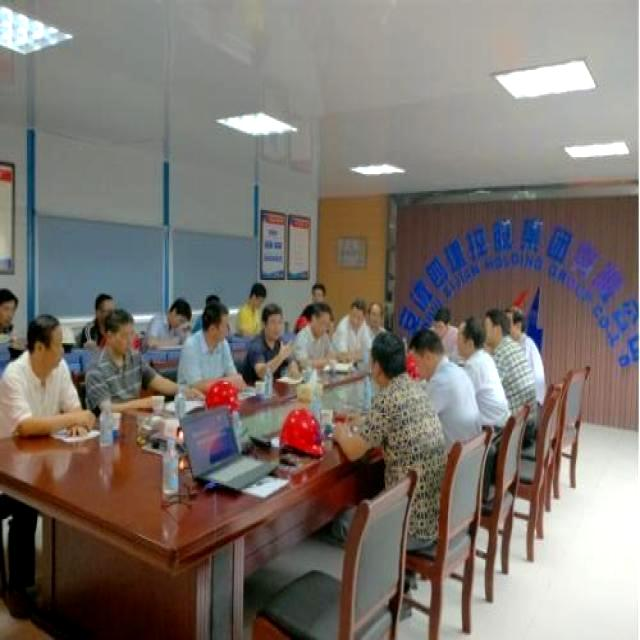no_head_wear: (26, 313, 62, 354), (372, 331, 404, 375), (410, 329, 443, 353), (202, 301, 227, 332), (461, 317, 484, 350), (104, 309, 133, 331), (485, 309, 509, 335), (507, 305, 525, 331), (309, 301, 330, 321), (172, 299, 191, 319), (262, 302, 280, 321), (95, 293, 115, 310), (0, 288, 17, 306), (435, 306, 450, 321), (252, 282, 265, 297), (352, 299, 365, 311), (313, 282, 326, 290), (371, 302, 381, 310)
person: (334, 330, 445, 552), (84, 309, 206, 417), (0, 314, 93, 438), (409, 329, 480, 455), (485, 307, 537, 450), (455, 315, 509, 438), (177, 300, 243, 394), (241, 304, 291, 387), (506, 306, 545, 404), (291, 301, 337, 380), (146, 298, 191, 349), (333, 300, 370, 360), (294, 284, 335, 334), (0, 288, 21, 374), (80, 293, 113, 347), (236, 282, 266, 338), (430, 307, 457, 359), (369, 302, 390, 343)
